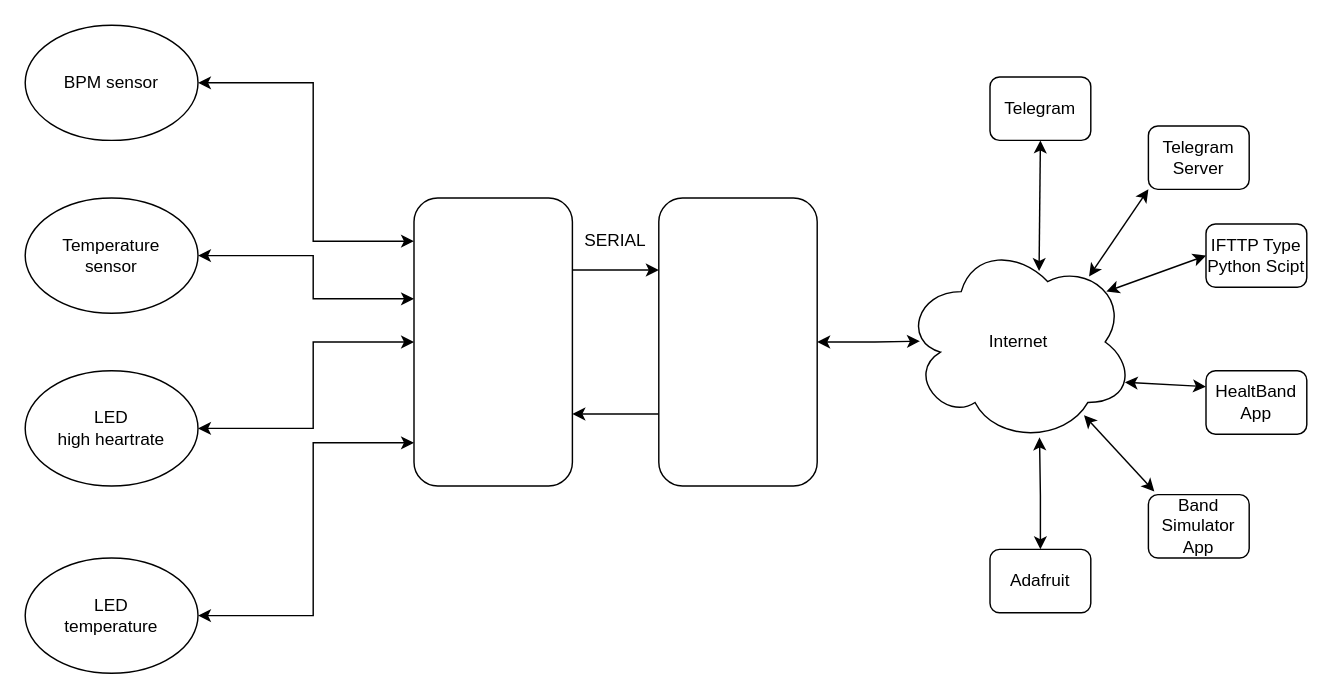
Some shapes in this 1332 by 698 pixel diagram are drawn without their labels. The box of each missing label's shape, as (x1, y1, x2, y2) in pixels:
Bridge: (657, 197, 817, 486)
Microcontroller: (413, 197, 572, 486)
